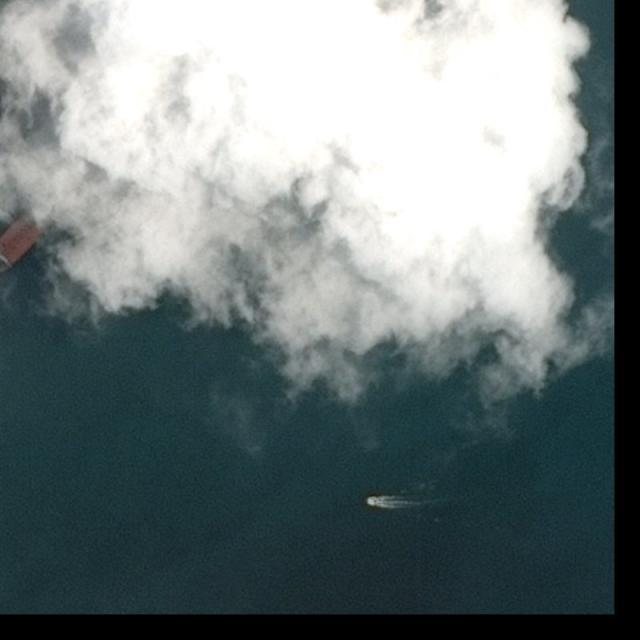ship: (367, 498, 378, 504)
